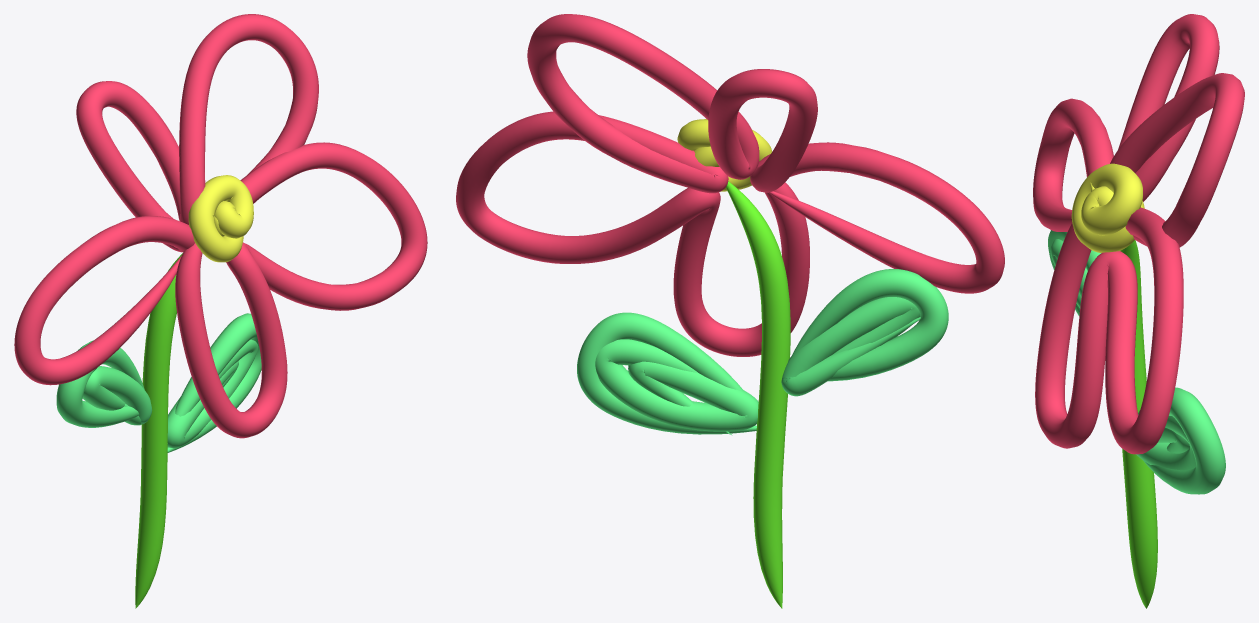
The model's file is flowah.fbx.
3 renders of one model, left to right at view 1: azimuth 30°, elevation 25°; view 2: azimuth 150°, elevation 25°; view 3: azimuth 270°, elevation 25°, orthographic. The views are drawn at different scales.
Visible parts, largest first — view 1: flower; view 2: flower; view 3: flower.
Part boxes in pixels (left/top/right/bottom): flower: left=14, top=14, right=427, bottom=608; flower: left=456, top=14, right=1004, bottom=608; flower: left=1033, top=14, right=1244, bottom=608.
Size of the model in its own units: 91.5 by 103 by 32.52.
